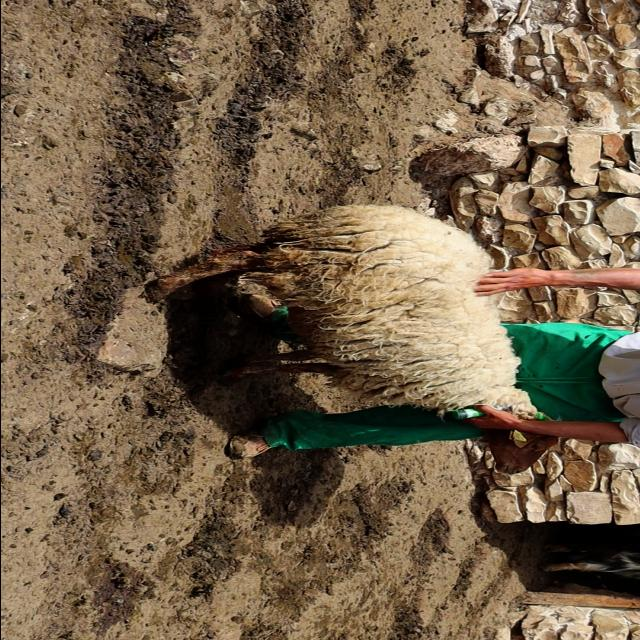Score_4: (148, 205, 538, 419)
